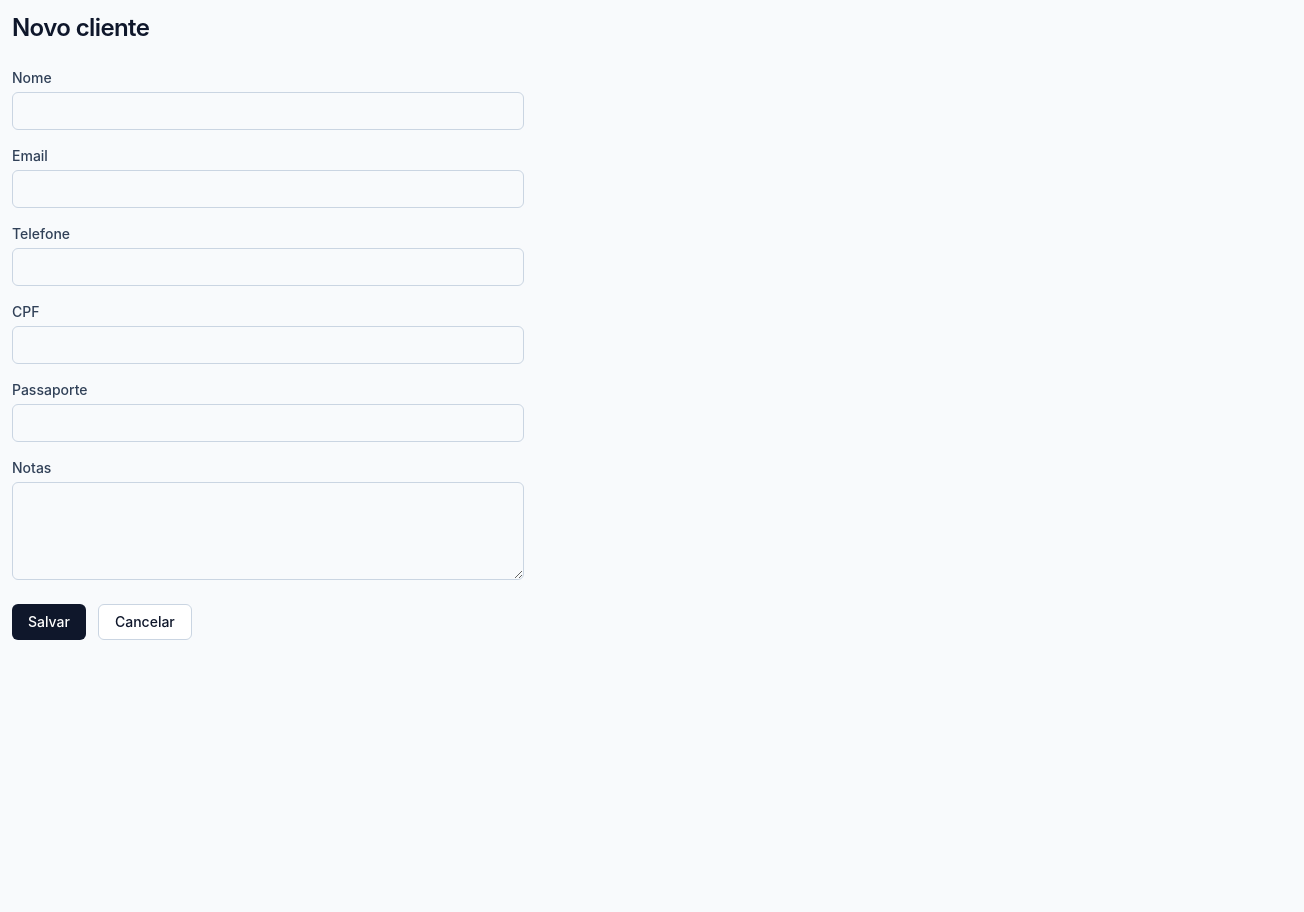
Scenario: CustomerFormPage › navigates back to /customers on success
Type "Maria Silva" into the field labelled "Nome".
click(268, 111); type("Maria Silva")  # box [12,92,524,130]
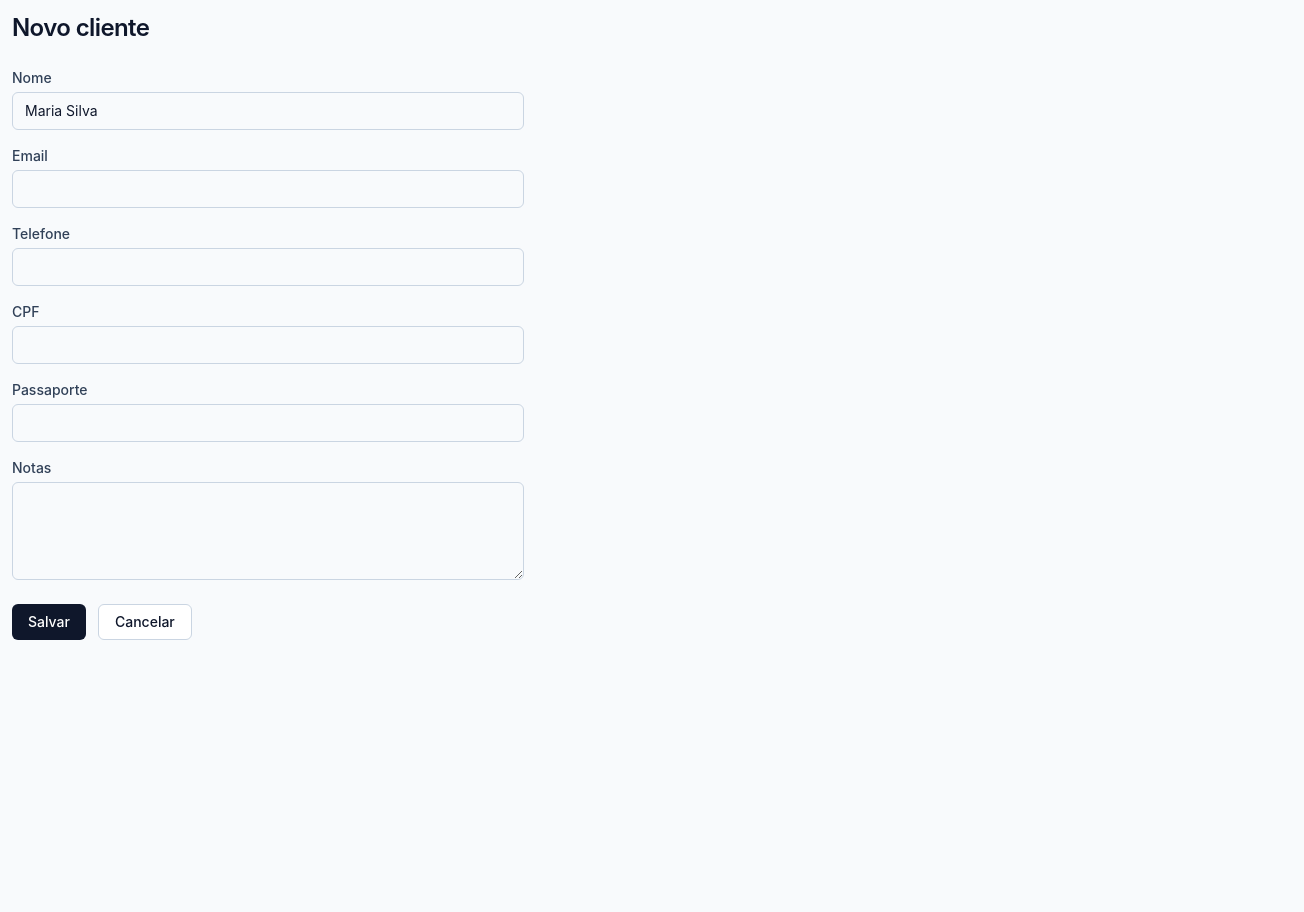
Click the button "Salvar".
click(49, 622)  # box [12,604,86,640]
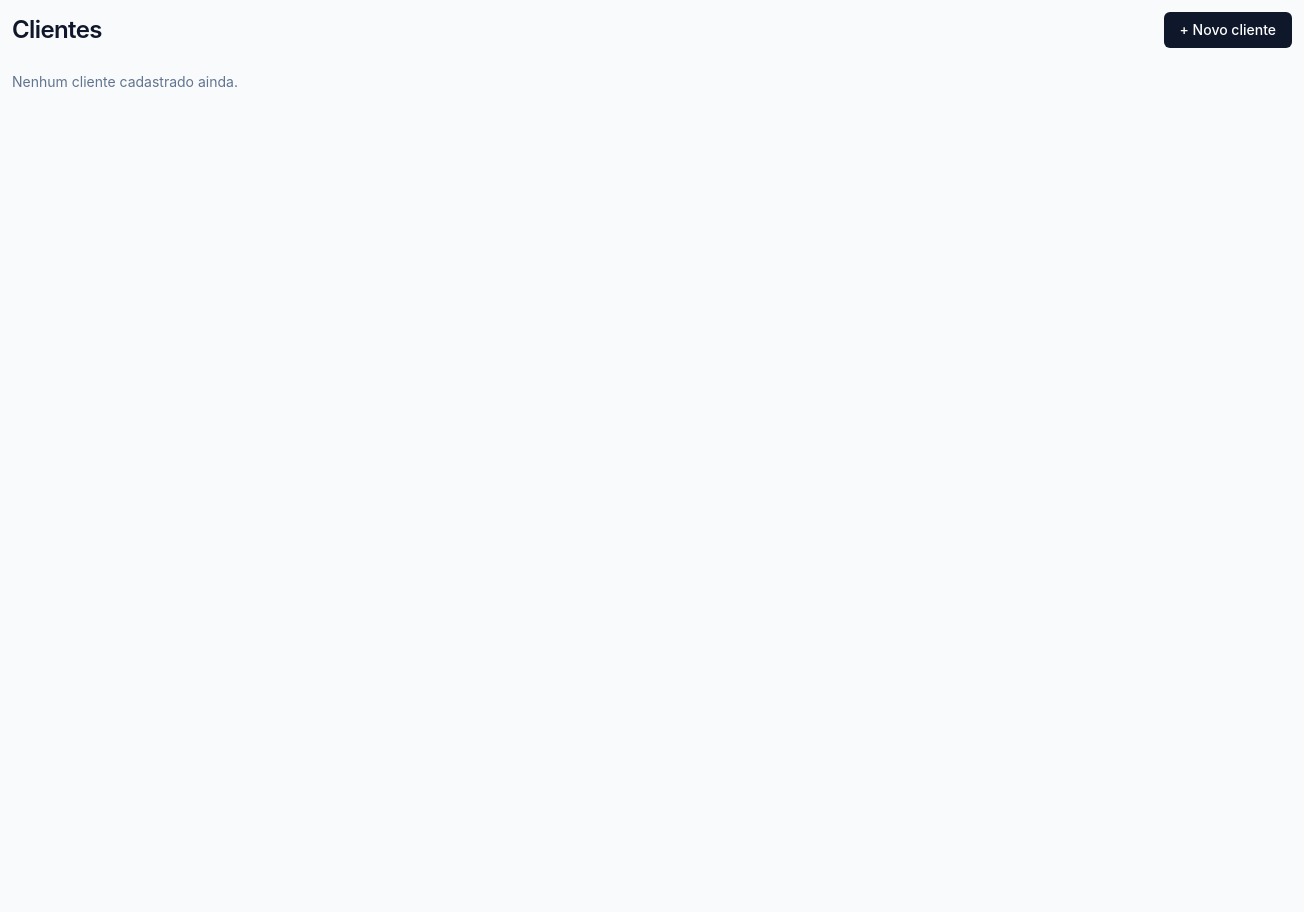
Expected: the heading "Clientes" is shown, [12,14,102,46]
